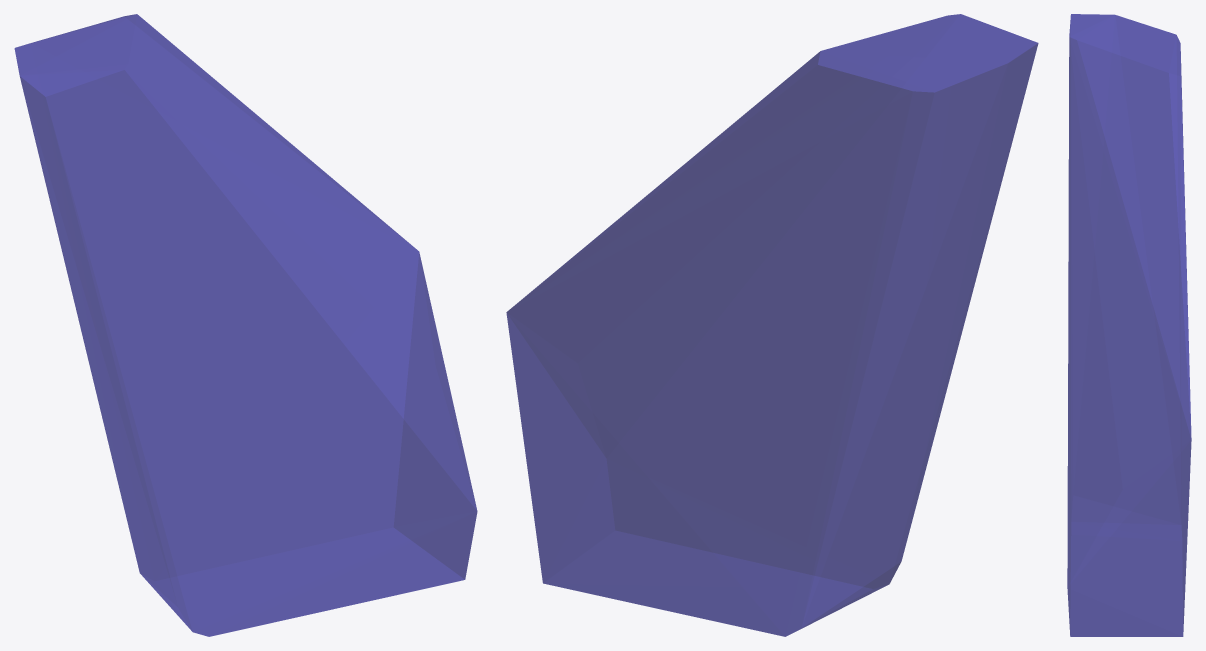
3 views of the same model, side by side, from view 1: azimuth 30°, elevation 25°; view 2: azimuth 150°, elevation 25°; view 3: azimuth 270°, elevation 25° (orthographic). The views are drawn at different scales.
Parts seen in each view (by area): view 1: Shape_IndexedFaceSet.013_Shape_IndexedFaceSet.12284; view 2: Shape_IndexedFaceSet.013_Shape_IndexedFaceSet.12284; view 3: Shape_IndexedFaceSet.013_Shape_IndexedFaceSet.12284.
Boxes of the visible parts, x1,y1,x2,y2 form: Shape_IndexedFaceSet.013_Shape_IndexedFaceSet.12284: (14, 14, 477, 636); Shape_IndexedFaceSet.013_Shape_IndexedFaceSet.12284: (506, 14, 1038, 636); Shape_IndexedFaceSet.013_Shape_IndexedFaceSet.12284: (1067, 14, 1191, 636).
Size of the model in its own units: 0.4679 by 0.5898 by 0.1416.
